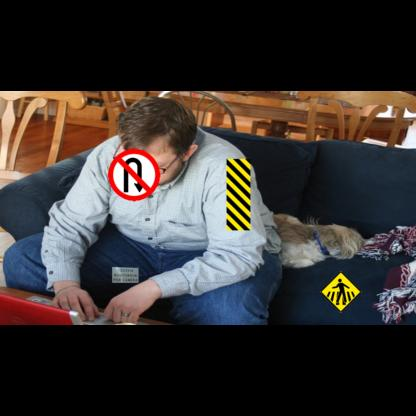A-32b: (320, 271, 361, 313)
I-E: (112, 267, 138, 283)
O-MP: (226, 159, 250, 230)
